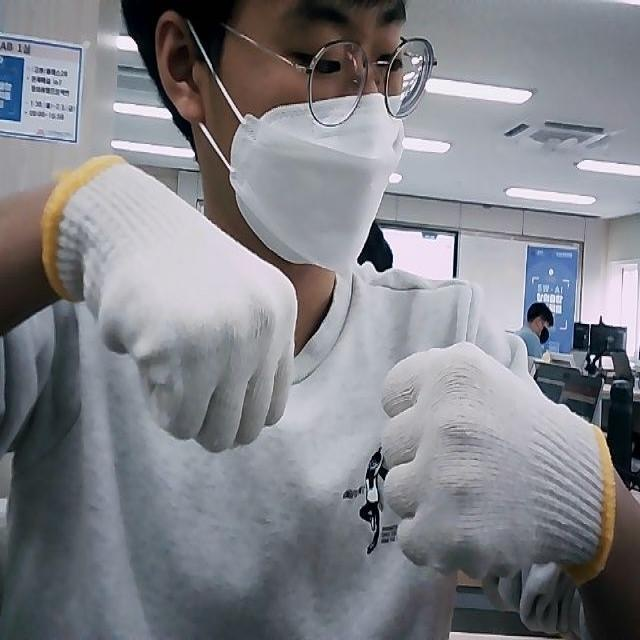Guantes: (42, 156, 298, 452), (380, 341, 615, 580)
